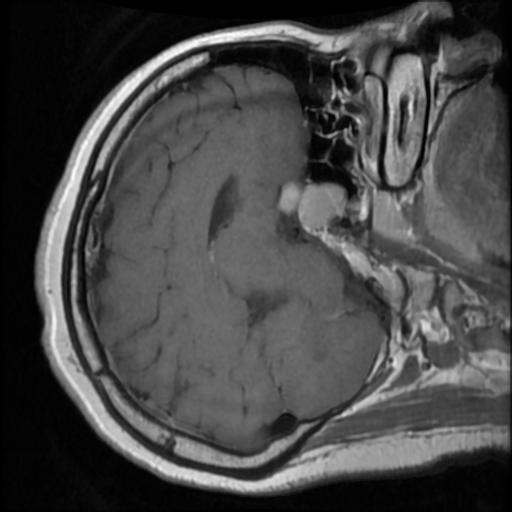pituitary tumour: (279, 181, 345, 227)
